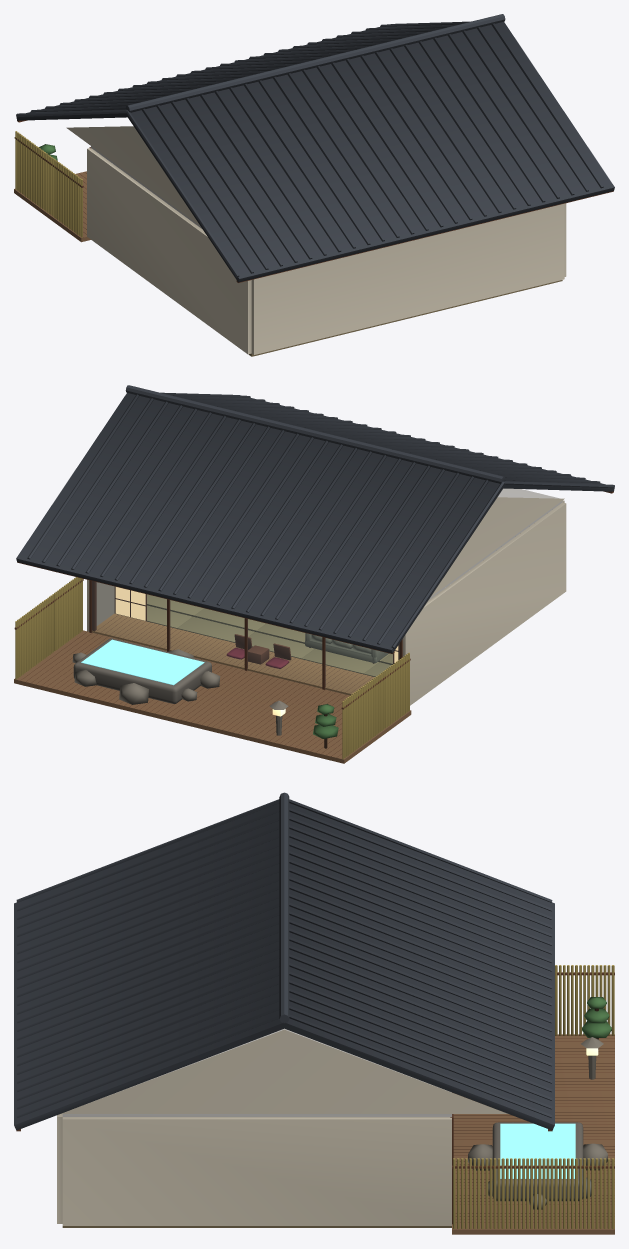
Rendered from hk-hanare.glb.
The picture shows the model from 3 angles, top to bottom: view 1: azimuth 30°, elevation 25°; view 2: azimuth 150°, elevation 25°; view 3: azimuth 270°, elevation 25°; orthographic projection. The views are drawn at different scales.
Parts seen in each view (by area): view 1: Room_rooftile, Room_plaster, Room_bamboo, Room_deck, Room_hinokiDark, Room_subfloor; view 2: Room_rooftile, Room_plaster, Room_deck, Room_glass, Room_bamboo, Room_hinokiDark, Room_hinoki, Room_tatami, Room_water, Room_tubStone, Room_rock, Room_fabric (+4 smaller); view 3: Room_rooftile, Room_plaster, Room_bamboo, Room_deck, Room_water, Room_hinokiDark, Room_tubStone, Room_ceiling, Room_rock, Room_leaf, Room_subfloor.
Boxes of the visible parts, <box> form: Room_rooftile: <box>16,14,614,282</box>; Room_plaster: <box>66,126,566,354</box>; Room_bamboo: <box>15,131,82,237</box>; Room_deck: <box>14,171,90,242</box>; Room_hinokiDark: <box>14,120,613,282</box>; Room_subfloor: <box>248,280,562,356</box>; Room_rooftile: <box>16,385,614,653</box>; Room_plaster: <box>87,497,566,705</box>; Room_deck: <box>14,630,411,763</box>; Room_glass: <box>92,581,399,693</box>; Room_bamboo: <box>15,577,409,759</box>; Room_hinokiDark: <box>14,491,613,757</box>; Room_hinoki: <box>92,613,374,695</box>; Room_tatami: <box>147,594,392,676</box>; Room_water: <box>81,639,204,685</box>; Room_tubStone: <box>73,638,211,703</box>; Room_rock: <box>72,649,288,735</box>; Room_fabric: <box>305,633,388,663</box>; Room_rooftile: <box>14,792,554,1130</box>; Room_plaster: <box>57,1029,507,1225</box>; Room_bamboo: <box>453,965,614,1228</box>; Room_deck: <box>452,1034,614,1234</box>; Room_water: <box>500,1123,575,1178</box>; Room_hinokiDark: <box>16,972,614,1224</box>; Room_tubStone: <box>492,1122,583,1201</box>; Room_ceiling: <box>62,1028,451,1116</box>; Room_rock: <box>468,1037,607,1209</box>; Room_leaf: <box>582,997,611,1037</box>; Room_subfloor: <box>62,1226,451,1227</box>.
Bounding box in the file's own units: 11.65 × 5.74 × 13.27.
